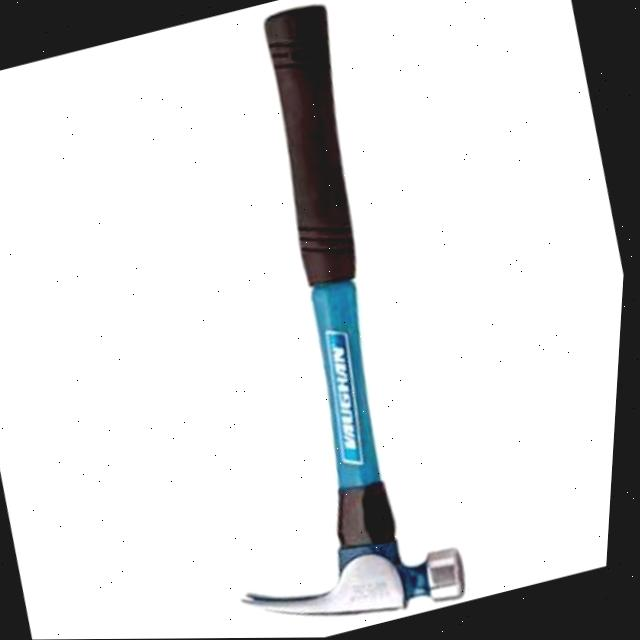hammer: (88, 0, 546, 639)
